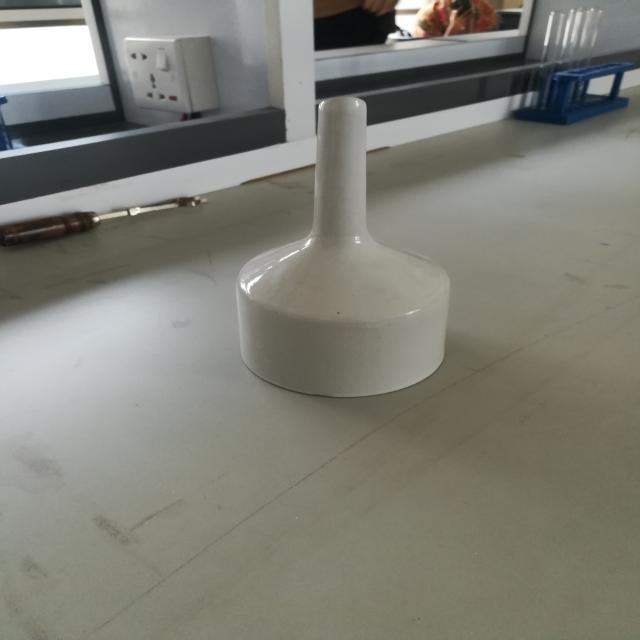Buchner_Funnel: (190, 51, 478, 436)
